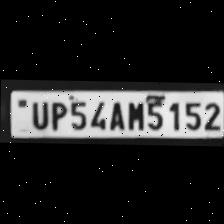1: (164, 97, 182, 129)
2: (200, 98, 222, 130)
4: (87, 96, 107, 128)
5: (142, 94, 164, 128), (179, 98, 201, 130), (66, 97, 86, 128)
A: (105, 97, 124, 129)
M: (124, 97, 144, 130)
P: (47, 97, 66, 129)
U: (26, 97, 48, 128)
